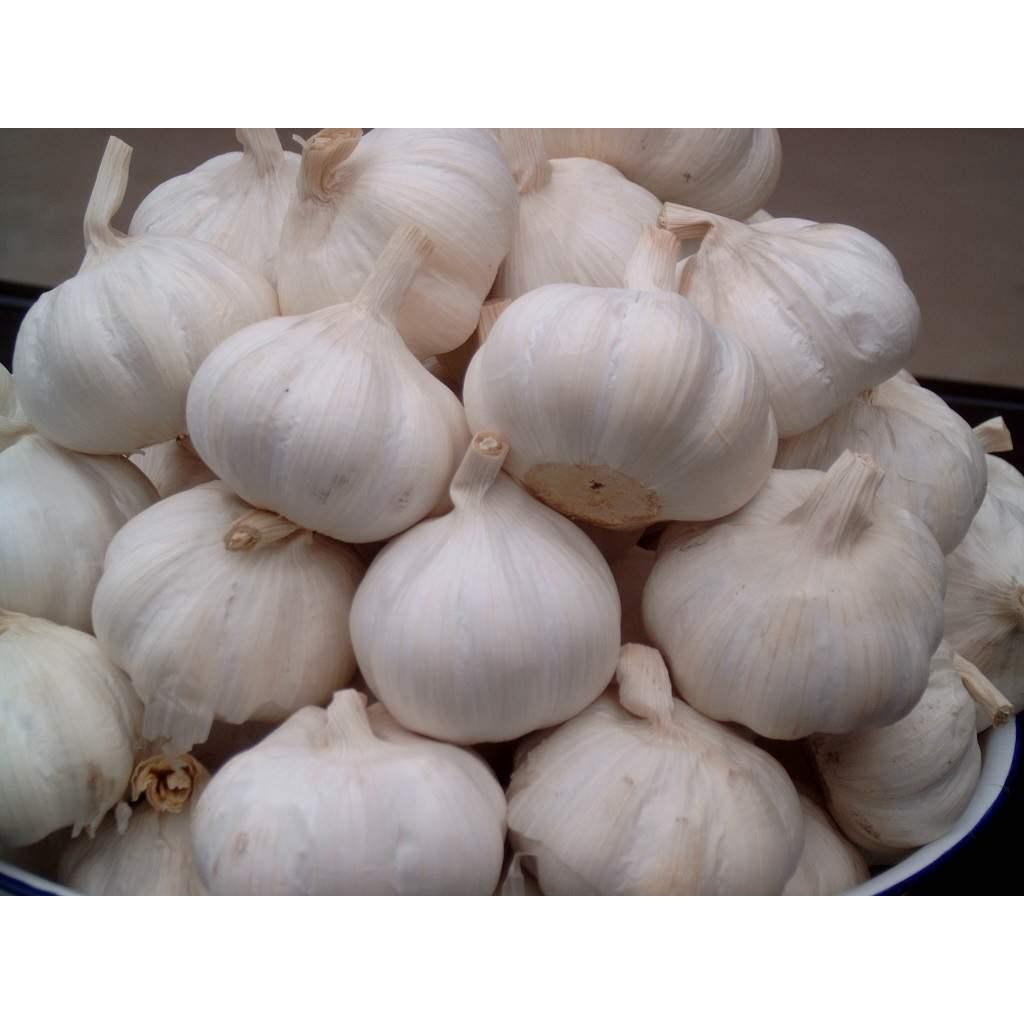garlic: (464, 226, 776, 528), (186, 222, 467, 541), (644, 452, 944, 737), (14, 138, 278, 454), (349, 432, 618, 742), (508, 644, 804, 894), (92, 480, 364, 752), (194, 690, 506, 894), (658, 202, 920, 437), (278, 128, 518, 358), (0, 610, 142, 846)
